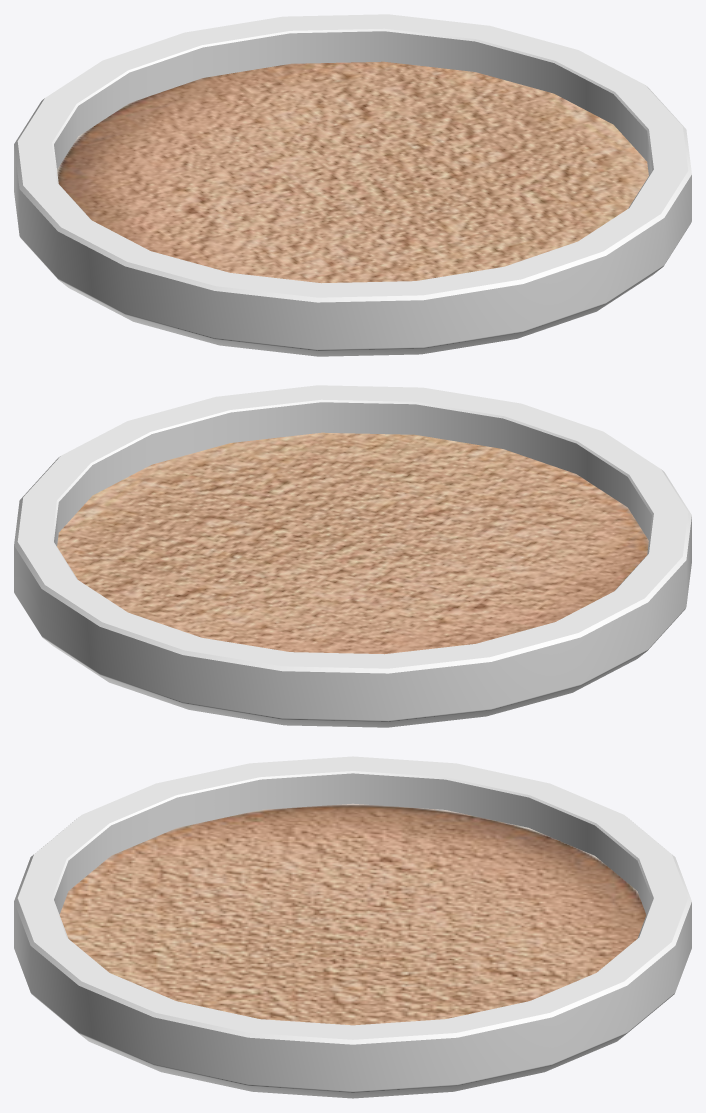
The model's file is Beauty_Product_03.fbx.
The picture shows the model from 3 angles, top to bottom: view 1: azimuth 30°, elevation 25°; view 2: azimuth 150°, elevation 25°; view 3: azimuth 270°, elevation 25°; orthographic projection.
Visible parts, largest first — view 1: Beauty_Product_03; view 2: Beauty_Product_03; view 3: Beauty_Product_03.
Part boxes in pixels (bbox=[...]): Beauty_Product_03: bbox=[14, 14, 691, 356]; Beauty_Product_03: bbox=[14, 385, 691, 727]; Beauty_Product_03: bbox=[14, 756, 691, 1098].
Bounding box in the file's own units: 92.85 × 9.56 × 92.85.
